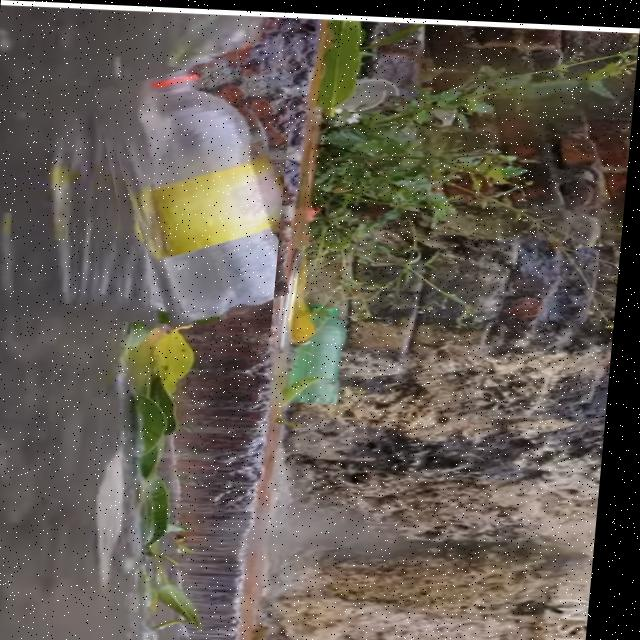plasticbottle: (95, 55, 294, 325), (226, 40, 238, 66)
